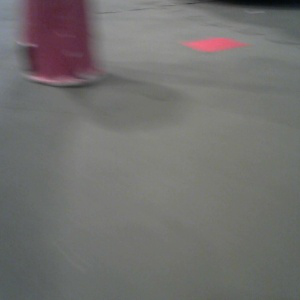middle: (16, 1, 111, 89)
